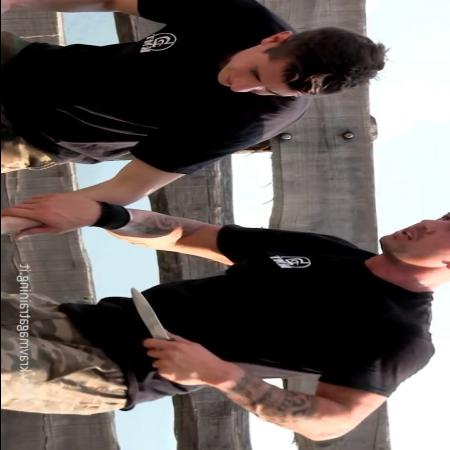long weapon: (126, 284, 194, 388)
